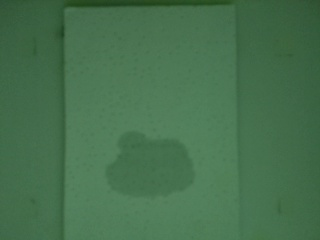Water_detected: (117, 148, 188, 190)
